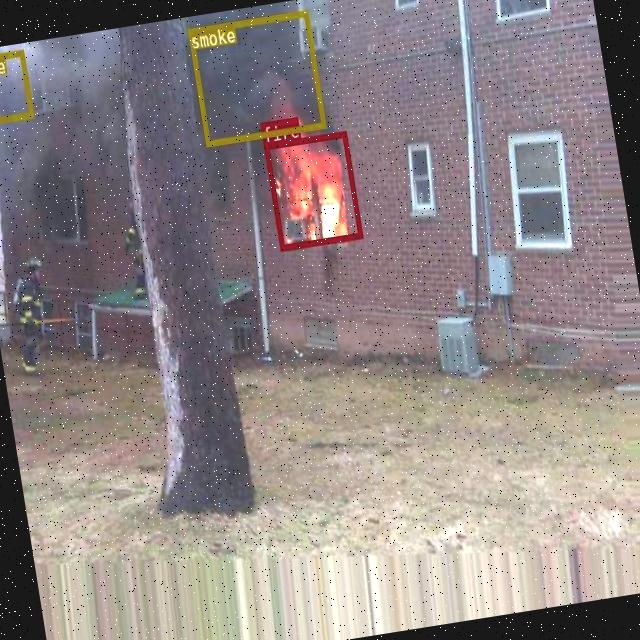fire: (263, 130, 362, 251)
smoke: (188, 10, 326, 146), (0, 49, 33, 127)
